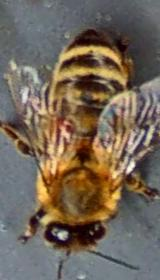varroa_mite: (47, 112, 83, 142)
